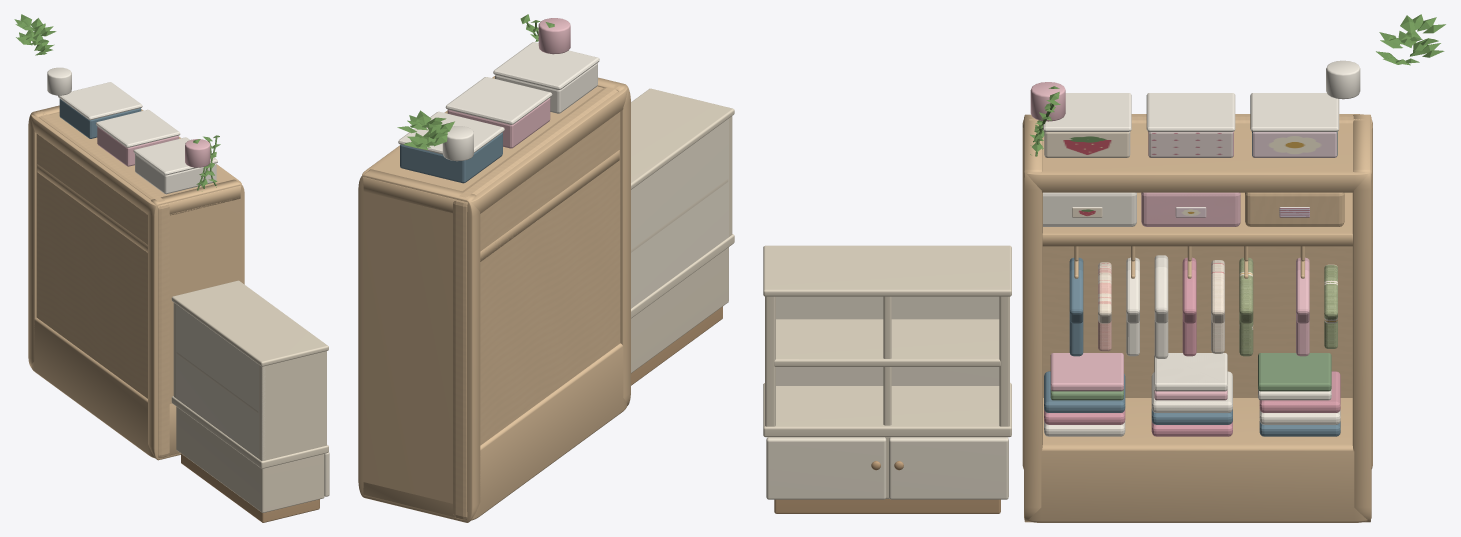
File: display-cabinet-v001.glb
The picture shows the model from 3 angles, left to right: view 1: azimuth 30°, elevation 25°; view 2: azimuth 150°, elevation 25°; view 3: azimuth 270°, elevation 25°; orthographic projection. The views are drawn at different scales.
Visible parts, largest first — view 1: PH1_Wardrobe_Back, PH1_Wardrobe_Side_Near, DISPLAY_Open_Back, PH1_Wardrobe_Base, DISPLAY_Top, DISPLAY_Lower_Carcass, DISPLAY_Side_-1, PH1_Wardrobe_Top, PH1_Wardrobe_Side_Far, DEN_WardrobeTopLid1, DEN_WardrobeTopLid2, DISPLAY_Plinth (+9 smaller); view 2: PH1_Wardrobe_Back, PH1_Wardrobe_Side_Far, PH1_Wardrobe_Base, DISPLAY_Open_Back, PH1_Wardrobe_Top, DISPLAY_Top, DISPLAY_Lower_Carcass, PH1_Wardrobe_Side_Near, DEN_WardrobeTopLid1, DEN_WardrobeTopLid0, DEN_WardrobeTopBox2, PH1_Wardrobe_Shelf (+9 smaller); view 3: PH1_Wardrobe_Base, PH1_Wardrobe_Back, PH1_Wardrobe_Top, DISPLAY_Top, DISPLAY_Base_Counter, DISPLAY_Middle_Shelf, DISPLAY_Open_Back, PH1_Wardrobe_Side_Far, DISPLAY_Closed_Door_1, DISPLAY_Closed_Door_2, PH1_Wardrobe_Side_Near, PH1_Wardrobe_Shelf (+37 smaller).
Boxes of the visible parts, x1,y1,x2,y2 form: PH1_Wardrobe_Back: (36, 111, 169, 457); PH1_Wardrobe_Side_Near: (148, 179, 244, 460); DISPLAY_Open_Back: (176, 304, 265, 460); PH1_Wardrobe_Base: (31, 317, 179, 458); DISPLAY_Top: (171, 280, 328, 366); DISPLAY_Lower_Carcass: (176, 406, 324, 512); DISPLAY_Side_-1: (259, 351, 326, 460); PH1_Wardrobe_Top: (31, 109, 241, 215); PH1_Wardrobe_Side_Far: (28, 105, 59, 367); DEN_WardrobeTopLid1: (95, 109, 180, 147); DEN_WardrobeTopLid2: (58, 82, 142, 120); DISPLAY_Plinth: (181, 453, 319, 522); PH1_Wardrobe_Back: (453, 84, 620, 519); PH1_Wardrobe_Side_Far: (358, 169, 480, 522); PH1_Wardrobe_Base: (363, 343, 627, 520); DISPLAY_Open_Back: (631, 118, 728, 308); PH1_Wardrobe_Top: (362, 76, 627, 213); DISPLAY_Top: (631, 88, 734, 189); DISPLAY_Lower_Carcass: (631, 247, 728, 373); PH1_Wardrobe_Side_Near: (597, 77, 630, 405); DEN_WardrobeTopLid1: (445, 77, 552, 124); DEN_WardrobeTopLid0: (493, 42, 599, 89); DEN_WardrobeTopBox2: (400, 132, 502, 183); PH1_Wardrobe_Shelf: (480, 150, 619, 261); PH1_Wardrobe_Base: (1024, 398, 1371, 522); PH1_Wardrobe_Back: (1022, 115, 1372, 469); PH1_Wardrobe_Top: (1024, 114, 1371, 192); DISPLAY_Top: (763, 245, 1011, 296); DISPLAY_Base_Counter: (763, 383, 1011, 437); DISPLAY_Middle_Shelf: (774, 319, 1000, 366); DISPLAY_Open_Back: (776, 296, 999, 385); PH1_Wardrobe_Side_Far: (1352, 114, 1371, 522); DISPLAY_Closed_Door_1: (766, 437, 886, 499); DISPLAY_Closed_Door_2: (889, 437, 1008, 499); PH1_Wardrobe_Side_Near: (1024, 114, 1042, 522); PH1_Wardrobe_Shelf: (1042, 192, 1352, 246).
Bounding box in the file's own units: 0.94 × 3.27 × 4.46.
20 materials, 10 textured.
